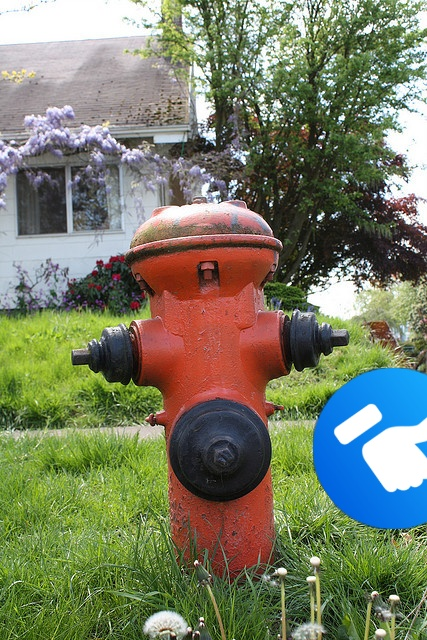like: (313, 368, 427, 529)
